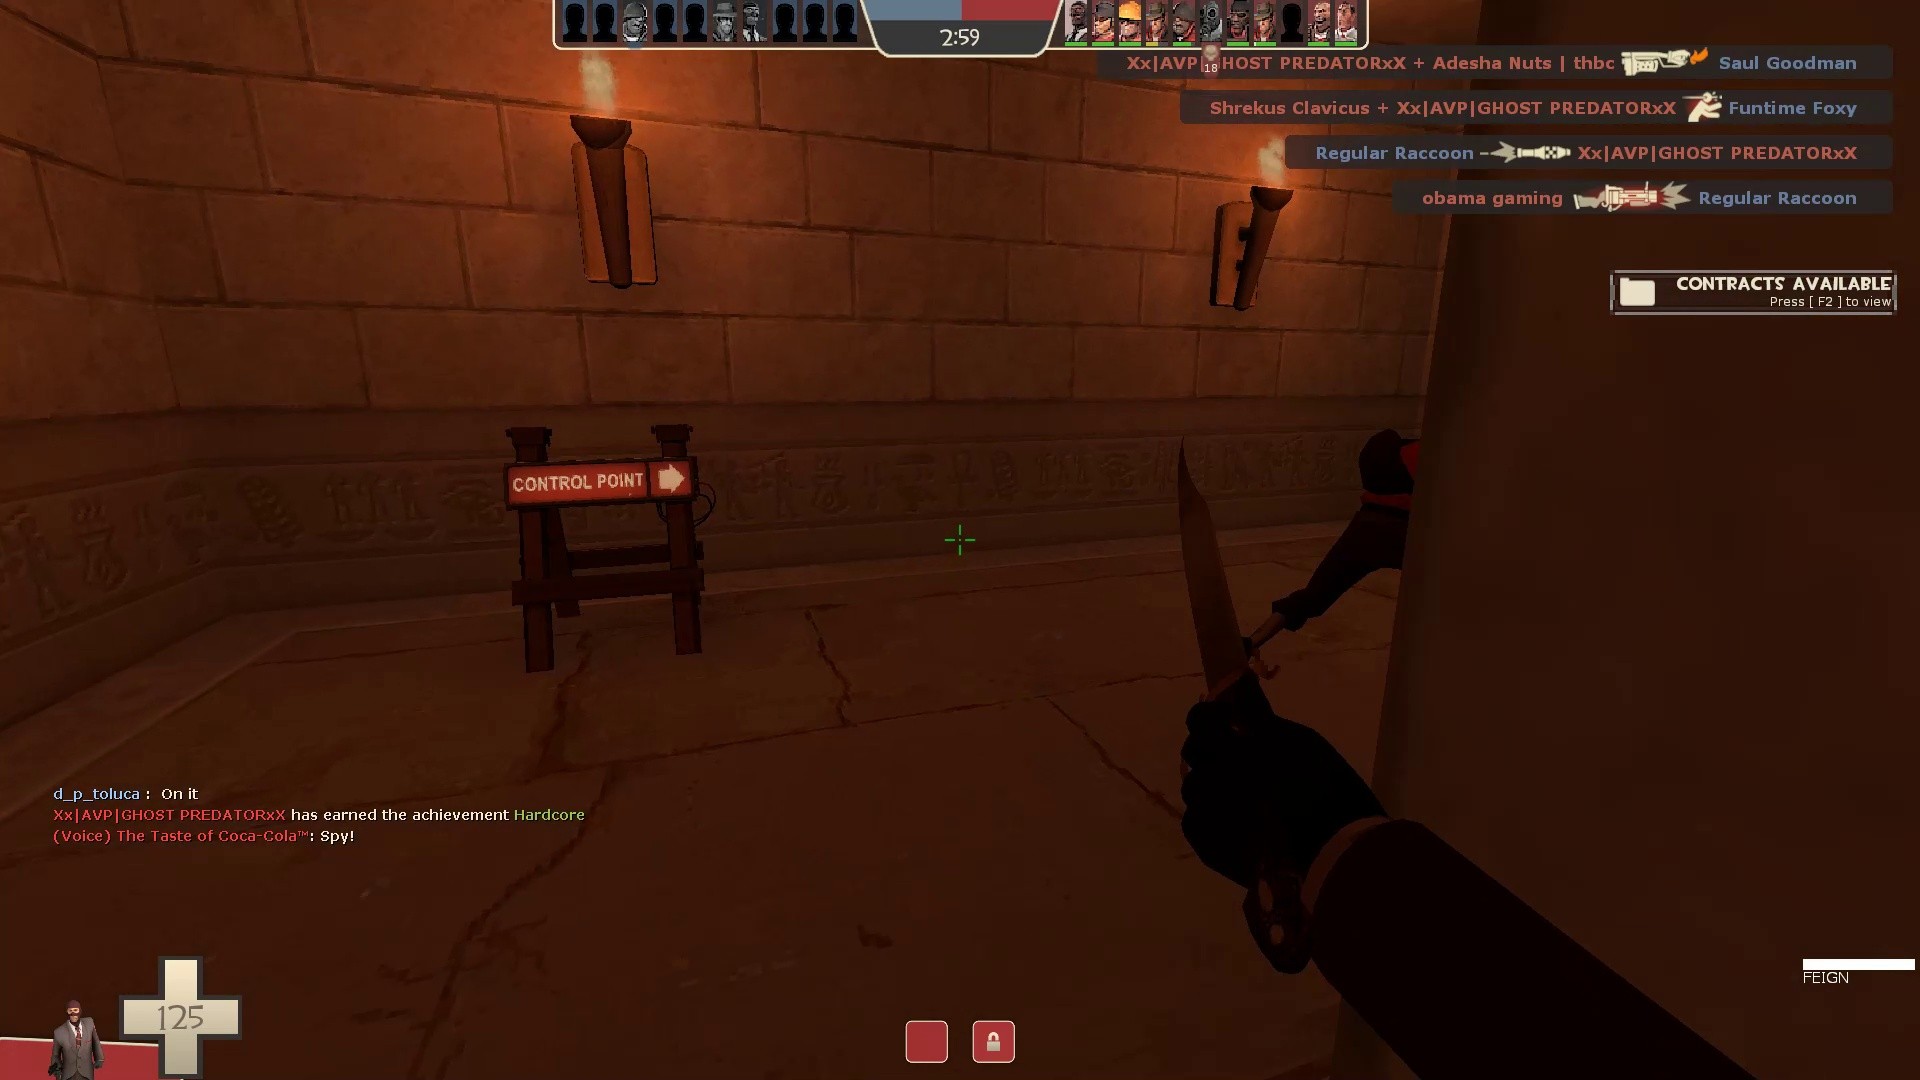red_scout: (1211, 400, 1534, 720)
